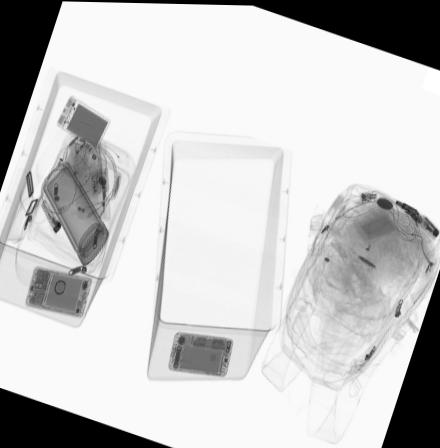Powerbank: (56, 95, 112, 147)
